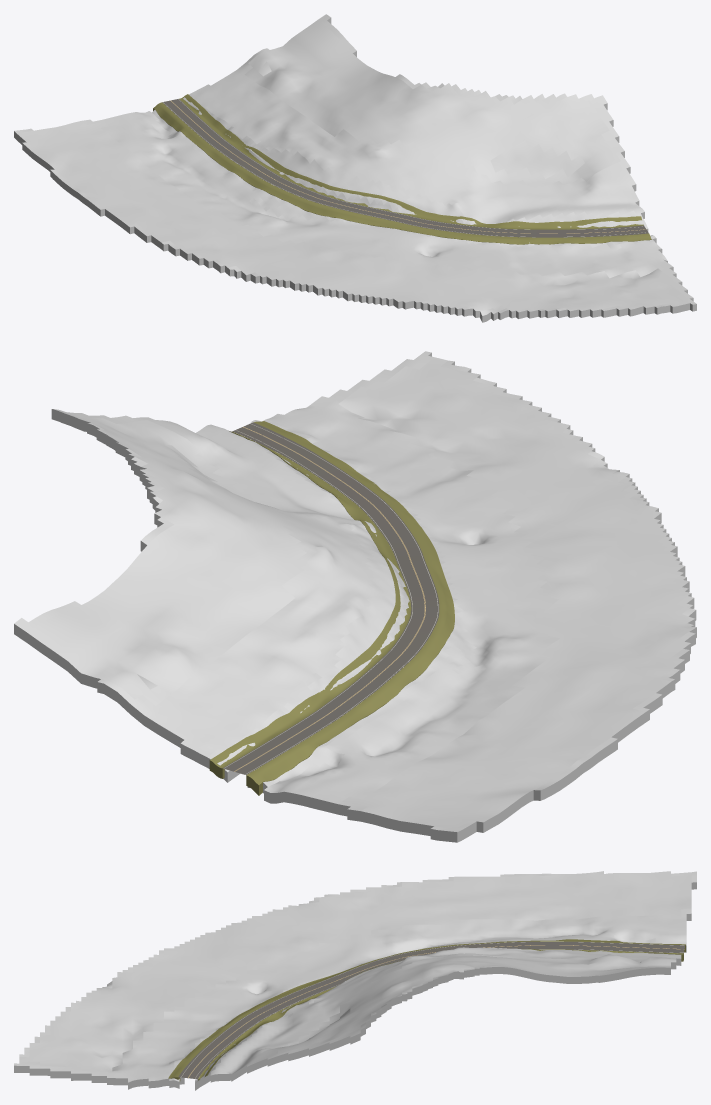
File: conz_137.glb
The picture shows the model from 3 angles, top to bottom: view 1: azimuth 30°, elevation 25°; view 2: azimuth 150°, elevation 25°; view 3: azimuth 270°, elevation 25°; orthographic projection. The views are drawn at different scales.
Visible parts, largest first — view 1: terrain137, road137, verge137L, verge137R; view 2: terrain137, road137, verge137L, verge137R, paint_white137, paint_yellow137; view 3: terrain137, road137, verge137L, verge137R, paint_yellow137, paint_white137.
Boxes of the visible parts, x1,y1,x2,y2 form: terrain137: [14, 14, 696, 322]; road137: [162, 99, 648, 237]; verge137L: [153, 102, 651, 244]; verge137R: [179, 94, 643, 229]; terrain137: [14, 351, 696, 842]; road137: [223, 422, 439, 774]; verge137L: [246, 421, 454, 795]; verge137R: [209, 431, 411, 778]; paint_white137: [224, 423, 438, 774]; paint_yellow137: [234, 426, 425, 771]; terrain137: [14, 871, 696, 1090]; road137: [178, 941, 685, 1079]; verge137L: [168, 939, 685, 1081]; verge137R: [198, 948, 683, 1080]; paint_yellow137: [188, 945, 684, 1077]; paint_white137: [181, 941, 683, 1078].
Bounding box in the file's own units: 200 × 38 × 264.
